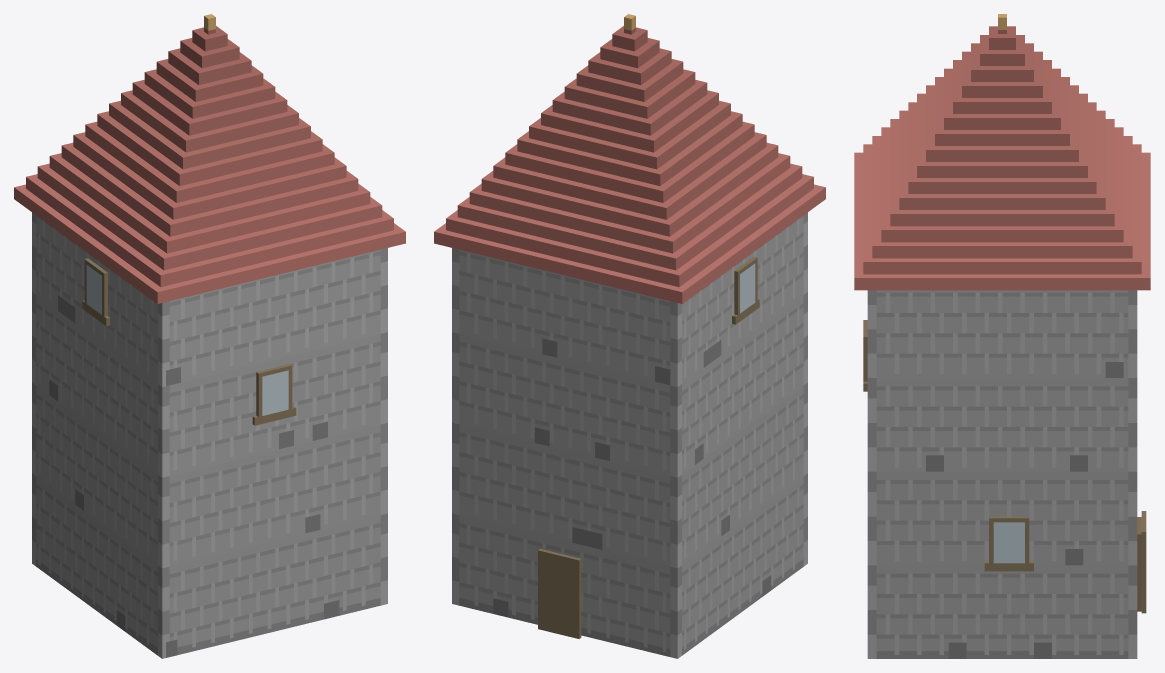
Rendered from faro_04.glb.
3 renders of one model, left to right at view 1: azimuth 30°, elevation 25°; view 2: azimuth 150°, elevation 25°; view 3: azimuth 270°, elevation 25°, orthographic. The views are drawn at different scales.
Parts seen in each view (by area): view 1: faro_04; view 2: faro_04; view 3: faro_04.
Part boxes in pixels (x1,y1,x2,y2): faro_04: [14, 14, 405, 658]; faro_04: [434, 14, 825, 658]; faro_04: [854, 14, 1150, 658].
Bounding box in the file's own units: 6.6 × 14.4 × 6.6.
